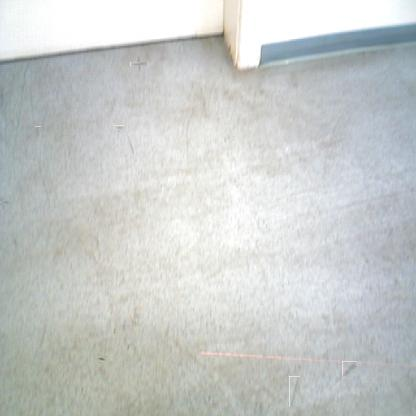mark: (289, 376, 300, 407), (342, 361, 357, 376), (126, 135, 134, 155), (134, 59, 144, 70), (96, 355, 106, 363), (35, 126, 41, 137), (0, 199, 7, 208), (116, 124, 123, 132)
